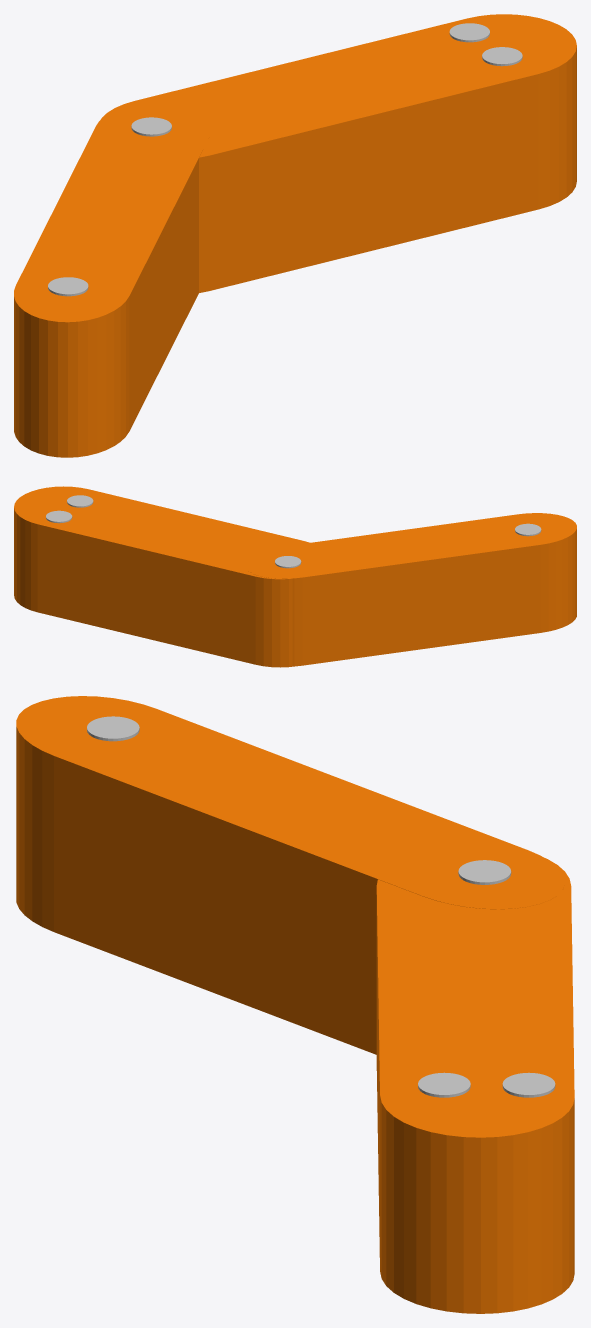
The model's file is barra_lateral_der.obj.
3 views of the same model, one above another, from view 1: azimuth 30°, elevation 25°; view 2: azimuth 150°, elevation 25°; view 3: azimuth 270°, elevation 25° (orthographic). The views are drawn at different scales.
Visible parts, largest first — view 1: Cubo_Cubo.002, Cubo.001_Cubo.005, Tornillo.003_Cilindro.003, Tornillo_Cilindro.018, Tornillo.002_Cilindro.002, Tornillo.001_Cilindro.001; view 2: Cubo_Cubo.002, Cubo.001_Cubo.005, Tornillo.001_Cilindro.001, Tornillo.003_Cilindro.003, Tornillo_Cilindro.018, Tornillo.002_Cilindro.002; view 3: Cubo.001_Cubo.005, Cubo_Cubo.002, Tornillo.003_Cilindro.003, Tornillo_Cilindro.018, Tornillo.002_Cilindro.002, Tornillo.001_Cilindro.001.
Boxes of the visible parts, x1,y1,x2,y2 form: Cubo_Cubo.002: (101, 14, 576, 292); Cubo.001_Cubo.005: (14, 100, 210, 457); Tornillo.003_Cilindro.003: (48, 277, 88, 296); Tornillo_Cilindro.018: (449, 23, 489, 42); Tornillo.002_Cilindro.002: (131, 117, 171, 136); Tornillo.001_Cilindro.001: (482, 47, 522, 66); Cubo_Cubo.002: (14, 486, 309, 667); Cubo.001_Cubo.005: (244, 513, 576, 666); Tornillo.001_Cilindro.001: (67, 495, 93, 507); Tornillo.003_Cilindro.003: (515, 523, 541, 536); Tornillo_Cilindro.018: (46, 510, 72, 523); Tornillo.002_Cilindro.002: (275, 556, 301, 568); Cubo.001_Cubo.005: (16, 696, 564, 1054); Cubo_Cubo.002: (376, 858, 574, 1313); Tornillo.003_Cilindro.003: (87, 716, 139, 741); Tornillo_Cilindro.018: (502, 1072, 555, 1097); Tornillo.002_Cilindro.002: (458, 860, 511, 884); Tornillo.001_Cilindro.001: (418, 1072, 470, 1097).
Size of the model in its own units: 10.74 by 2.05 by 5.74.
